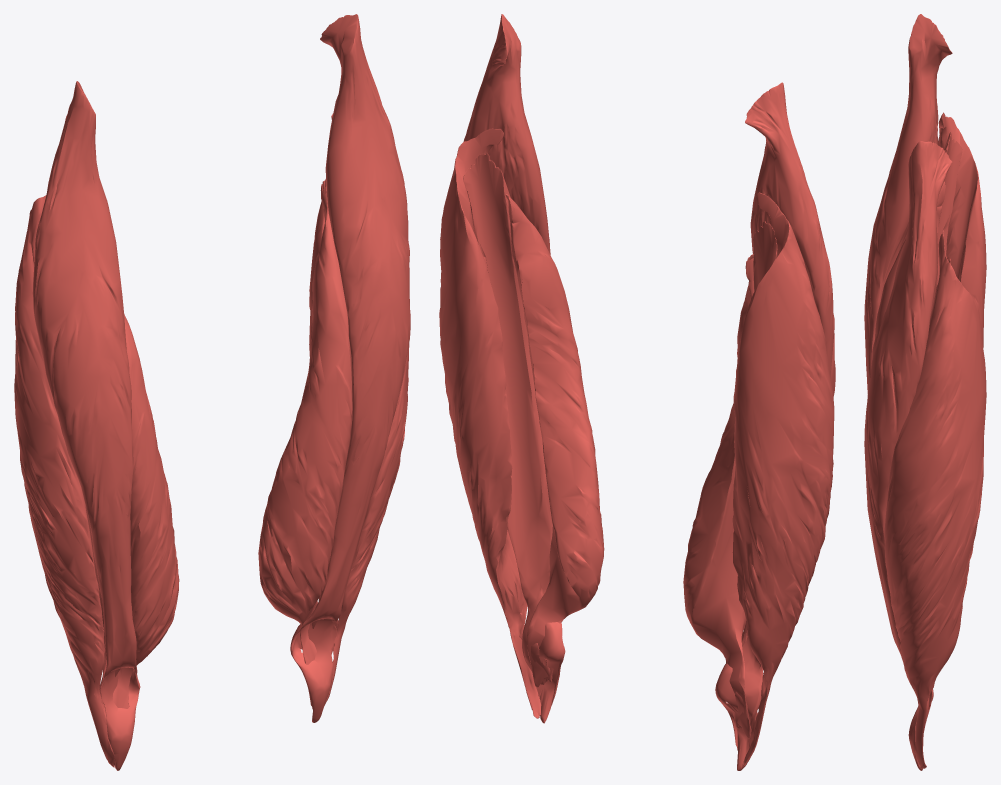
Rendered from supplement-knee-quadriceps.glb.
3 views of the same model, side by side, from view 1: azimuth 30°, elevation 25°; view 2: azimuth 150°, elevation 25°; view 3: azimuth 270°, elevation 25° (orthographic). The views are drawn at different scales.
Visible parts, largest first — view 1: knee:quadriceps:isa:FJ1433, knee:quadriceps:isa:FJ1433M, knee:quadriceps:isa:FJ1443M, knee:quadriceps:isa:FJ1442, knee:quadriceps:isa:FJ1443, knee:quadriceps:isa:FJ1442M; view 2: knee:quadriceps:isa:FJ1442, knee:quadriceps:isa:FJ1442M, knee:quadriceps:isa:FJ1443M, knee:quadriceps:isa:FJ1441M, knee:quadriceps:isa:FJ1443, knee:quadriceps:isa:FJ1433, knee:quadriceps:isa:FJ1433M, knee:quadriceps:isa:FJ1441; view 3: knee:quadriceps:isa:FJ1442M, knee:quadriceps:isa:FJ1433M, knee:quadriceps:isa:FJ1433, knee:quadriceps:isa:FJ1442, knee:quadriceps:isa:FJ1441, knee:quadriceps:isa:FJ1443.
Boxes of the visible parts, box(x1,y1,x2,y2) form: knee:quadriceps:isa:FJ1433: box(32, 81, 140, 770); knee:quadriceps:isa:FJ1433M: box(290, 14, 410, 722); knee:quadriceps:isa:FJ1443M: box(258, 179, 352, 664); knee:quadriceps:isa:FJ1442: box(14, 195, 114, 767); knee:quadriceps:isa:FJ1443: box(112, 313, 179, 708); knee:quadriceps:isa:FJ1442M: box(309, 113, 409, 705); knee:quadriceps:isa:FJ1442: box(732, 192, 834, 768); knee:quadriceps:isa:FJ1442M: box(439, 128, 541, 718); knee:quadriceps:isa:FJ1443M: box(505, 194, 604, 687); knee:quadriceps:isa:FJ1441M: box(463, 153, 552, 684); knee:quadriceps:isa:FJ1443: box(683, 254, 754, 738); knee:quadriceps:isa:FJ1433: box(715, 82, 835, 770); knee:quadriceps:isa:FJ1433M: box(463, 14, 565, 723); knee:quadriceps:isa:FJ1441: box(735, 221, 777, 732); knee:quadriceps:isa:FJ1442M: box(884, 233, 986, 768); knee:quadriceps:isa:FJ1433M: box(864, 141, 952, 770); knee:quadriceps:isa:FJ1433: box(864, 14, 952, 393); knee:quadriceps:isa:FJ1442: box(938, 112, 986, 347); knee:quadriceps:isa:FJ1441: box(937, 132, 962, 281); knee:quadriceps:isa:FJ1443: box(872, 181, 945, 357).
Size of the model in its own units: 0.3193 by 0.5564 by 0.095.
